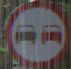No overtake: (4, 4, 70, 58)
